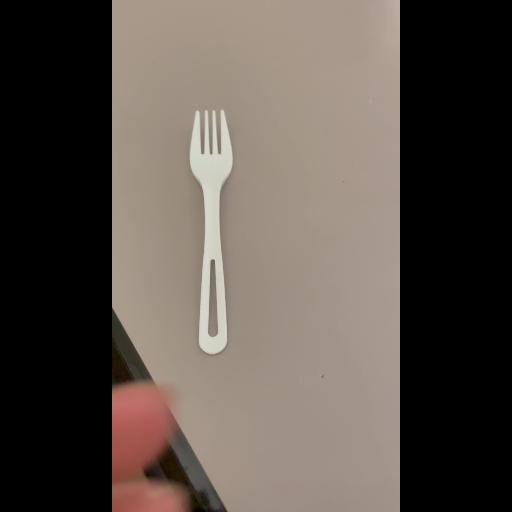utensil: (182, 106, 256, 362)
